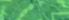Tomato leaf mosaic virus: (2, 0, 67, 20)
